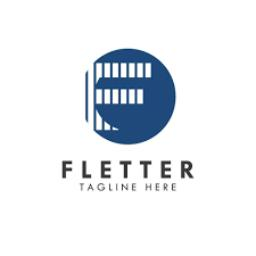e: (154, 157, 176, 181), (98, 154, 114, 182)
f: (56, 160, 78, 186)
l: (78, 156, 94, 182)
r: (179, 158, 195, 182)
t: (135, 156, 157, 180), (117, 158, 133, 178)
